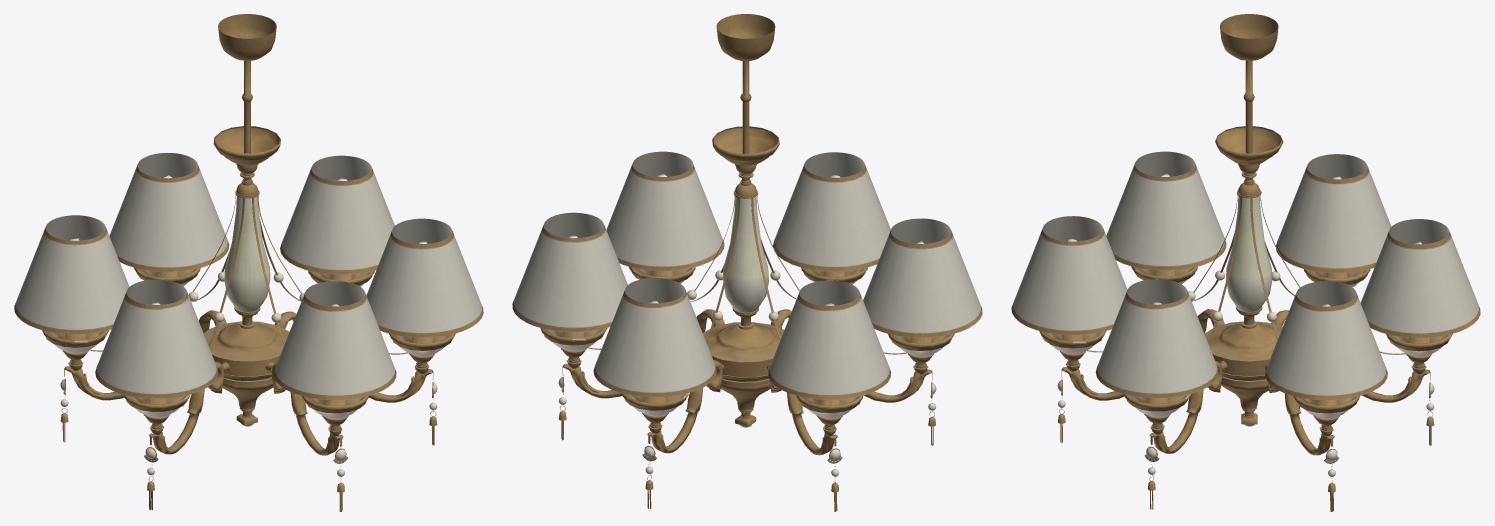
File: chandelier-01.8dc53a60.glb
3 views of the same model, side by side, from view 1: azimuth 30°, elevation 25°; view 2: azimuth 150°, elevation 25°; view 3: azimuth 270°, elevation 25° (orthographic).
Parts seen in each view (by area): view 1: model; view 2: model; view 3: model.
Boxes of the visible parts, bbox=[...] form: model: bbox=[14, 14, 483, 511]; model: bbox=[512, 14, 982, 511]; model: bbox=[1011, 14, 1480, 511].
Size of the model in its own units: 0.7465 by 0.7983 by 0.8155.
Materials: 2 (1 with a texture image).
